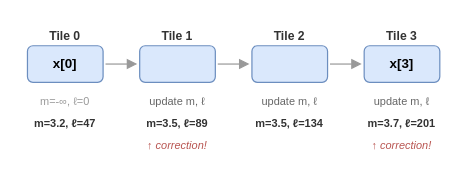
This 466x172 diagram has some shape labels left out. The shapes that lost their labels are listed below. From the top down, each one's centre as x and y in pixels, then its label:
point 176,63: x[1]
point 289,63: x[2]
